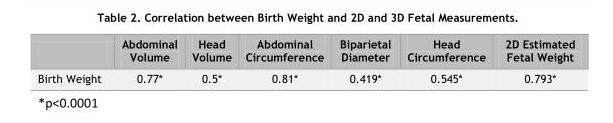table: (37, 36, 574, 84)
table column: (398, 36, 494, 84), (237, 36, 331, 84), (494, 36, 574, 84), (110, 36, 184, 84), (37, 36, 110, 84), (331, 36, 398, 84), (184, 36, 237, 84)
table column header: (37, 36, 574, 67)
table row: (37, 36, 574, 67), (37, 67, 574, 84)
